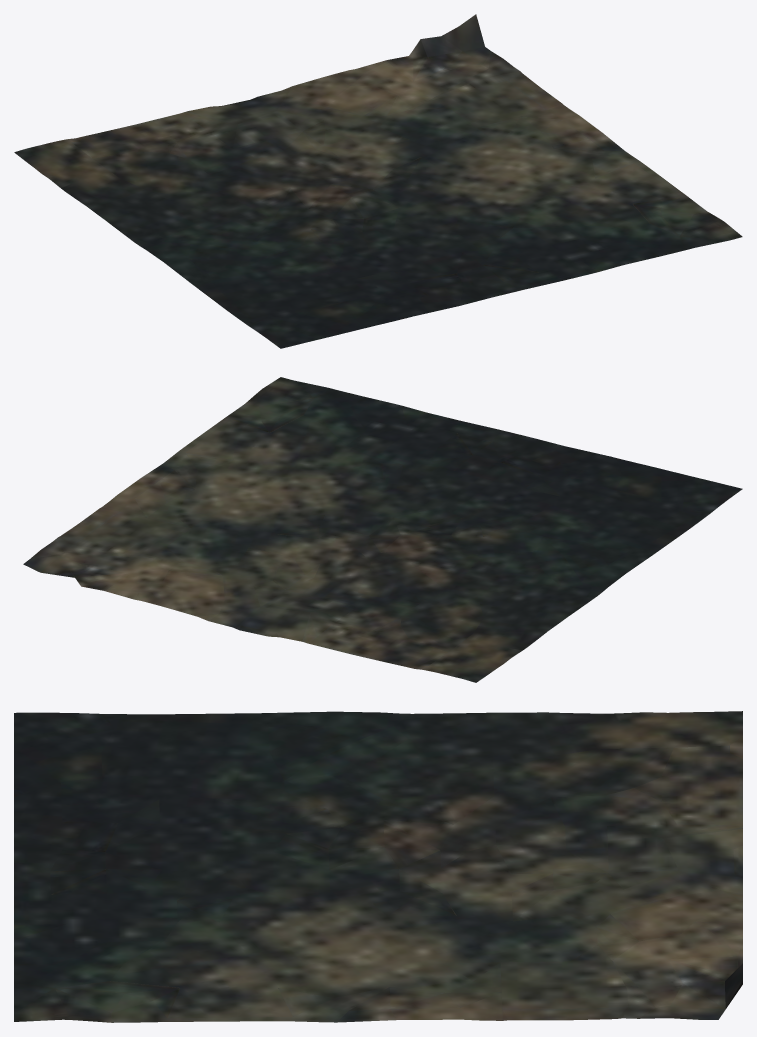
3 renders of one model, top to bottom at view 1: azimuth 30°, elevation 25°; view 2: azimuth 150°, elevation 25°; view 3: azimuth 270°, elevation 25°, orthographic. The views are drawn at different scales.
Bounding box in the file's own units: 52.22 × 3.3 × 52.22.
3 materials, 3 textured.
